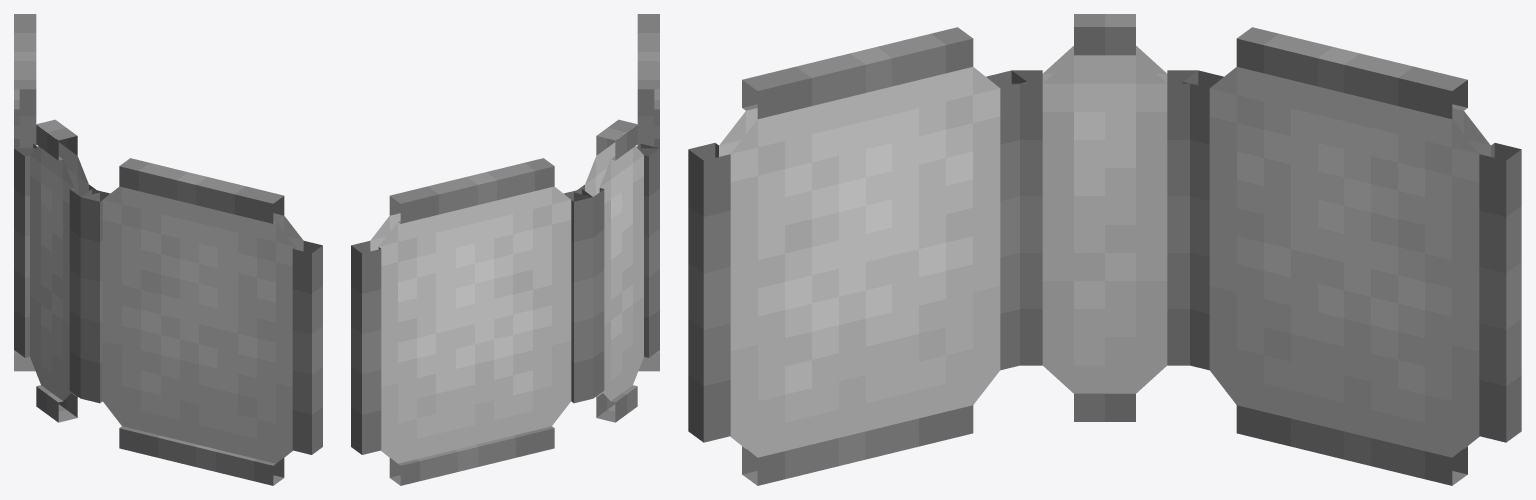
Rendered from grimoire_basic_open_tint.obj.
3 views of the same model, side by side, from view 1: azimuth 30°, elevation 25°; view 2: azimuth 150°, elevation 25°; view 3: azimuth 270°, elevation 25° (orthographic). The views are drawn at different scales.
Parts seen in each view (by area): view 1: COVER_FRONT_VAR2_OPEN_Cube.062, SPINE_VAR2_OPEN_Cube.127, COVER_BACK_VAR2_OPEN_Cube.129; view 2: COVER_BACK_VAR2_OPEN_Cube.129, SPINE_VAR2_OPEN_Cube.127, COVER_FRONT_VAR2_OPEN_Cube.062; view 3: COVER_FRONT_VAR2_OPEN_Cube.062, COVER_BACK_VAR2_OPEN_Cube.129, SPINE_VAR2_OPEN_Cube.127.
Part boxes in pixels (left/top/right/bottom): COVER_FRONT_VAR2_OPEN_Cube.062: left=80, top=158, right=322, bottom=485; SPINE_VAR2_OPEN_Cube.127: left=14, top=119, right=99, bottom=422; COVER_BACK_VAR2_OPEN_Cube.129: left=14, top=14, right=36, bottom=371; COVER_BACK_VAR2_OPEN_Cube.129: left=351, top=158, right=593, bottom=485; SPINE_VAR2_OPEN_Cube.127: left=574, top=119, right=659, bottom=422; COVER_FRONT_VAR2_OPEN_Cube.062: left=637, top=14, right=659, bottom=371; COVER_FRONT_VAR2_OPEN_Cube.062: left=688, top=27, right=1027, bottom=485; COVER_BACK_VAR2_OPEN_Cube.129: left=1182, top=27, right=1521, bottom=485; SPINE_VAR2_OPEN_Cube.127: left=1011, top=14, right=1198, bottom=421.
Size of the model in its own units: 0.4291 by 0.875 by 1.67.
